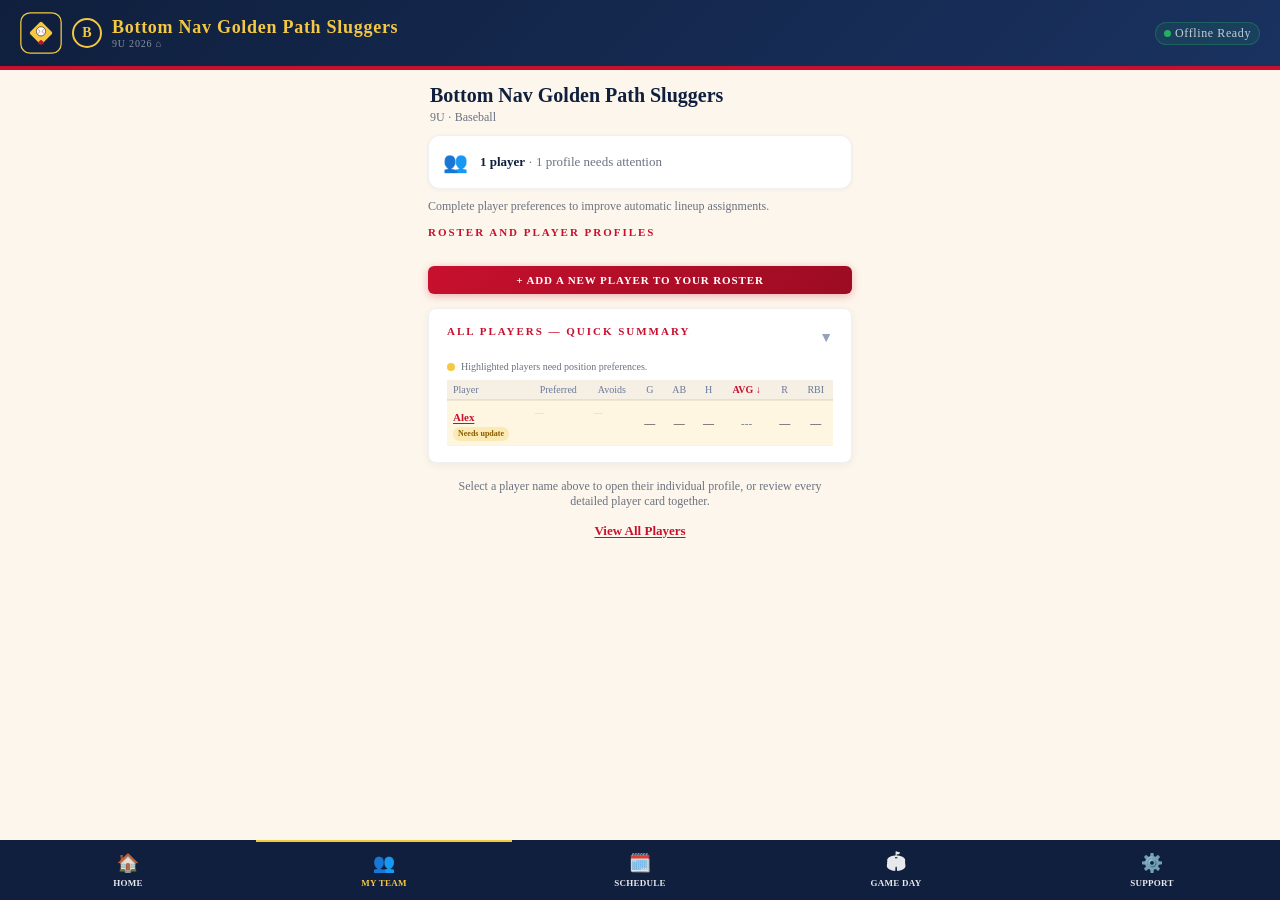
App Bottom Nav golden path (#943) › selects the contemporary Support shell behind UX_SUPPORT
This screenshot has width=1280, height=900.
Step 1. Click the button "⚙️ Support" → point(1152, 870), box [1024,840,1279,899]
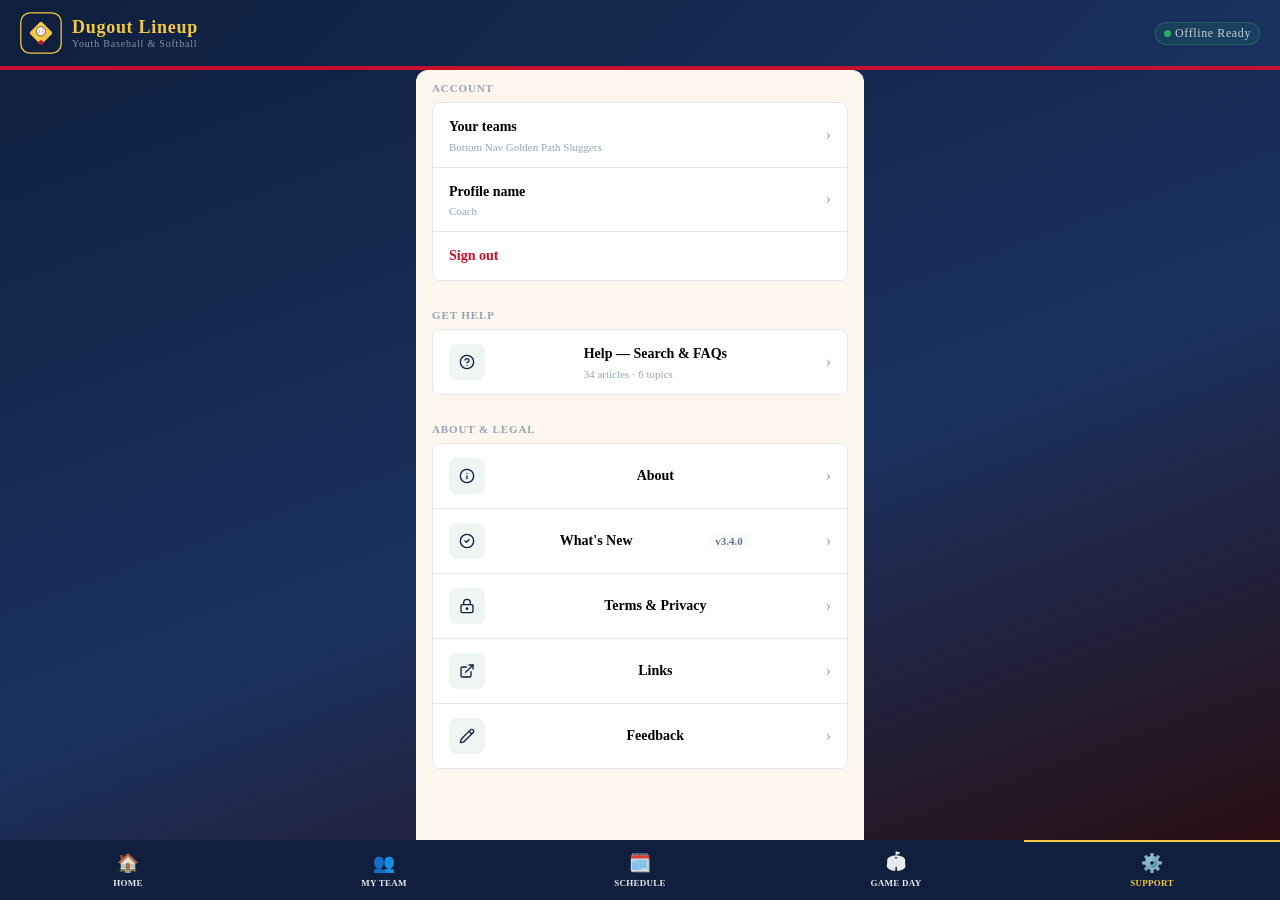
Step 2. Click the text "Help — Search & FAQs" → point(655, 354), box [584,344,727,364]
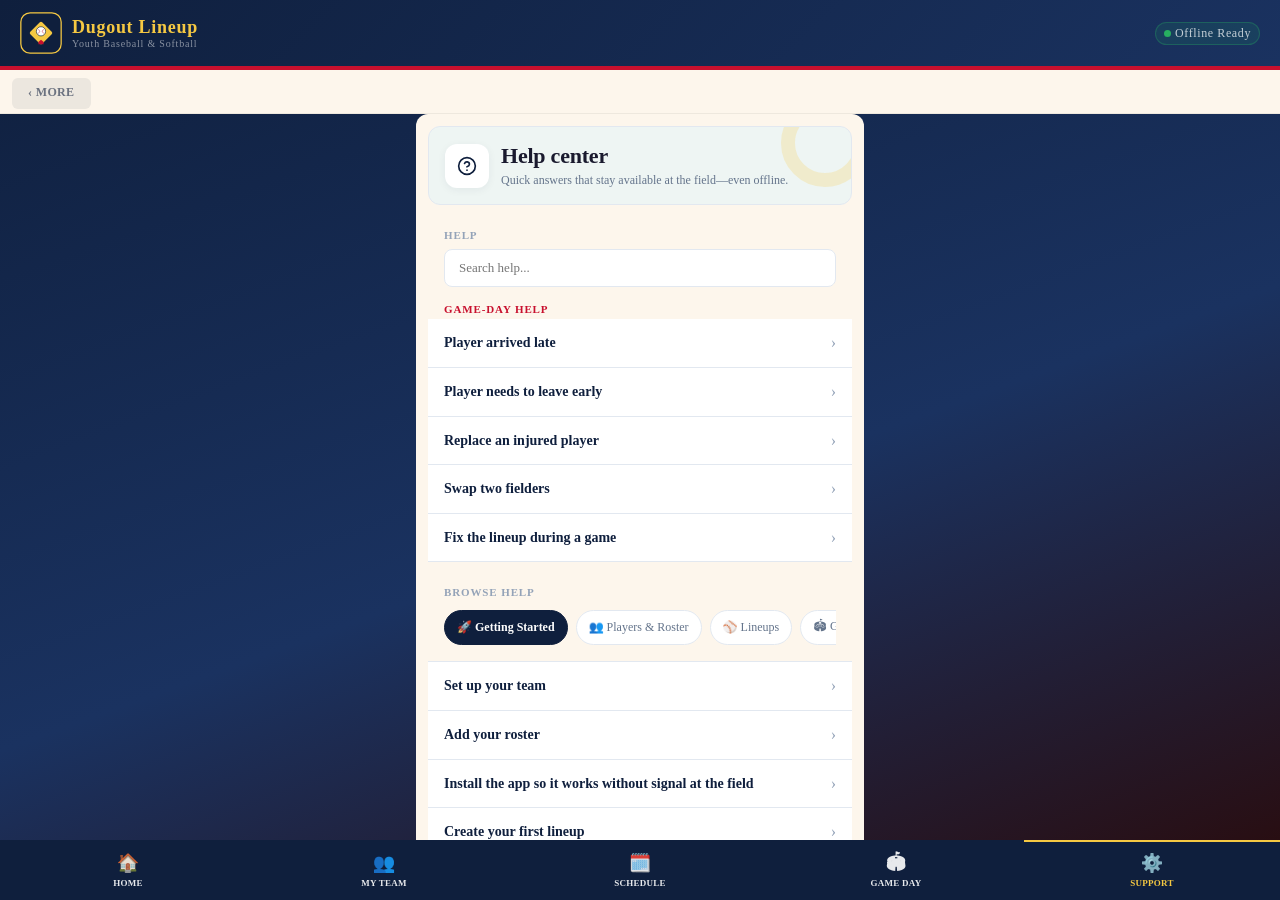
Expected: the heading "Help center" is shown, [501,143,608,168]
Expected: the search field labelled "Search help" is shown, [444,249,836,287]
